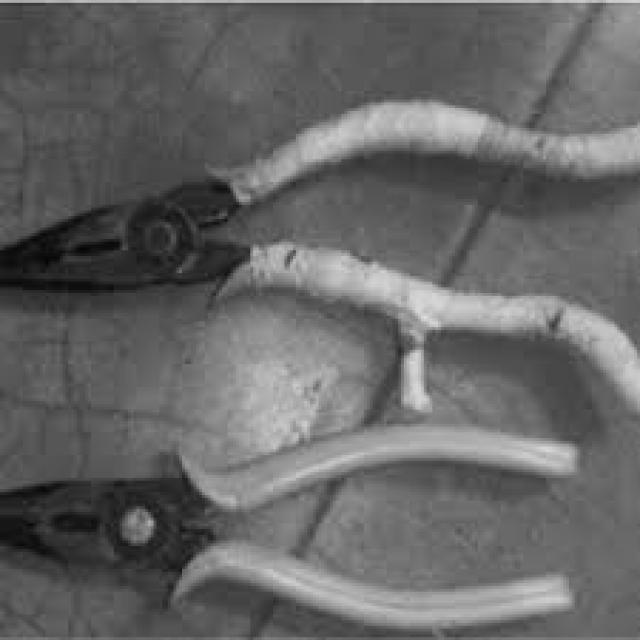pliers: (0, 420, 592, 635)
